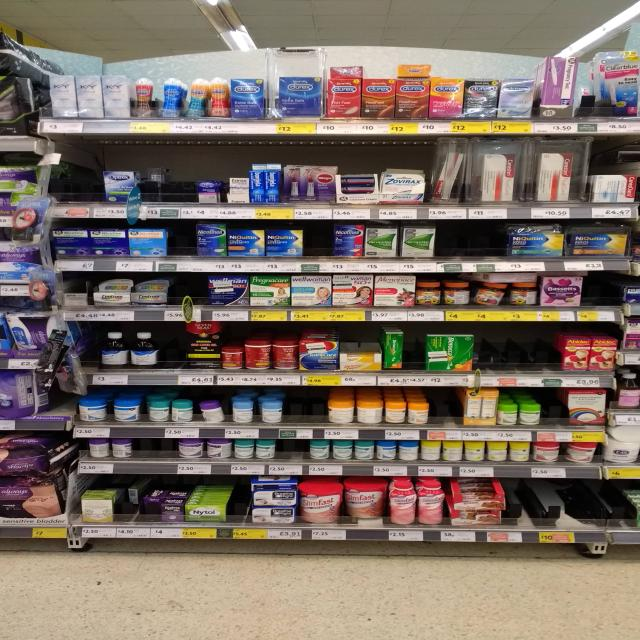unorganised: (188, 77, 210, 119), (474, 281, 505, 306), (127, 480, 151, 506), (199, 401, 223, 423), (146, 488, 167, 506)
